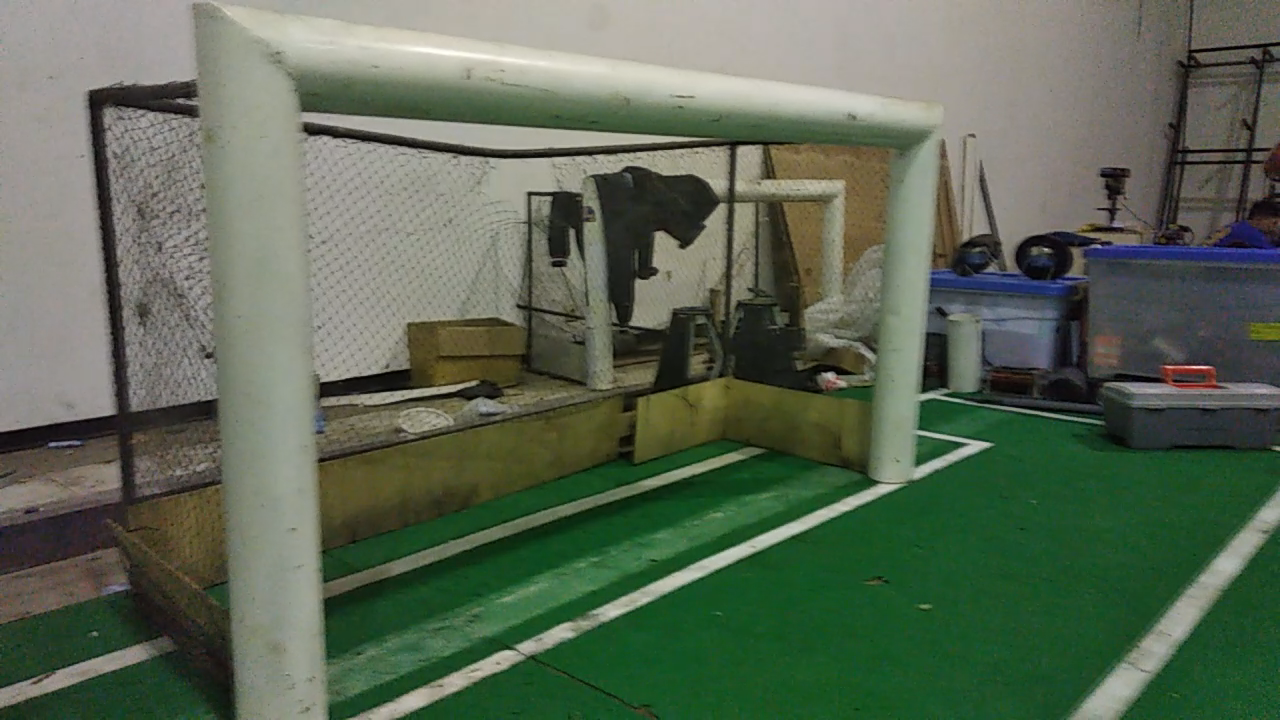gawang: (170, 3, 957, 717)
